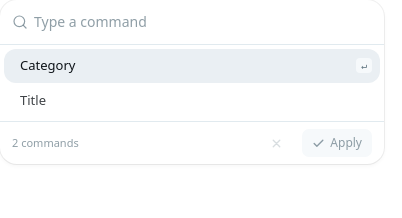
CommandPalette plain slot (regression) › joins multiple staged clauses with 'and'
The width and height of the screenshot is (402, 218).
Click the text "Category": [48, 65] box top-left (20, 56), bottom-right (75, 74)
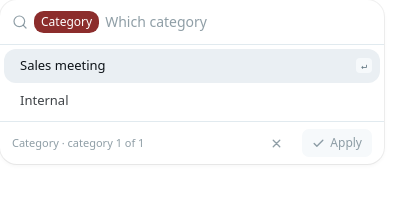
Click the text "Internal": [44, 100] box top-left (20, 90), bottom-right (68, 108)
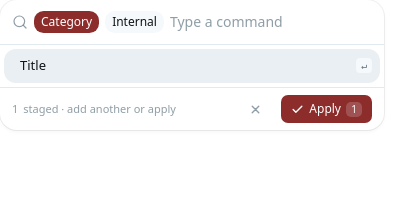
Click the text "Title": [33, 65] box top-left (20, 56), bottom-right (46, 74)
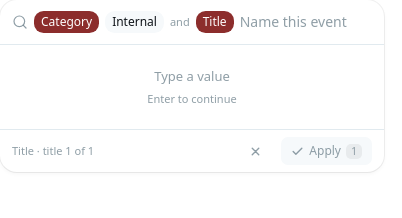
Result: the text "Type a value" is shown at top-left (154, 67), bottom-right (230, 85)
In the dropdown: [306, 22] box top-left (240, 10), bottom-right (372, 34), type "Standup"
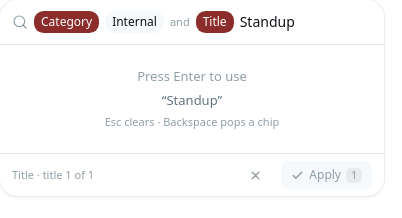
Press Enter in the dropdown, box top-left (240, 10), bottom-right (372, 34)
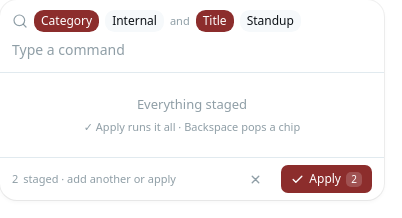
Result: the text "and" is shown at top-left (170, 13), bottom-right (190, 29)
Result: the button with aria-label "Apply 2 staged commands" is shown at top-left (281, 165), bottom-right (372, 193)
